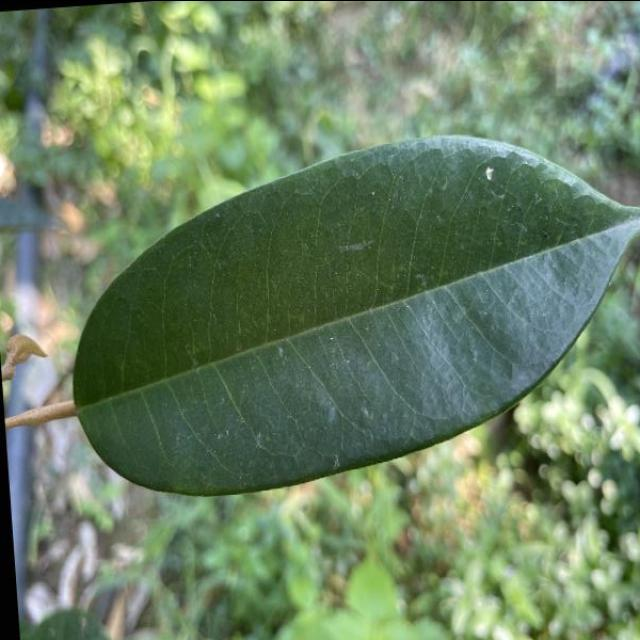No Disease: (41, 103, 640, 516)
